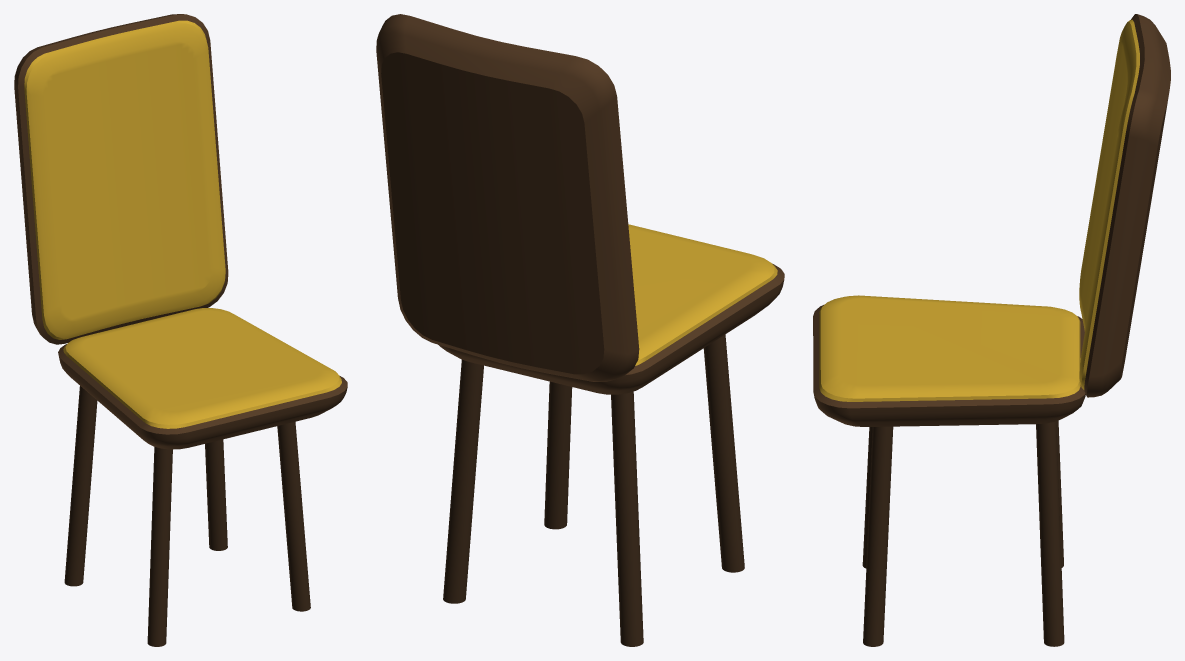
Rendered from DinnerChair_70s_v1.fbx.
3 renders of one model, left to right at view 1: azimuth 30°, elevation 25°; view 2: azimuth 150°, elevation 25°; view 3: azimuth 270°, elevation 25°, orthographic. The views are drawn at different scales.
Parts seen in each view (by area): view 1: M_Chair_70s_1; view 2: M_Chair_70s_1; view 3: M_Chair_70s_1.
Boxes of the visible parts, x1=… form: M_Chair_70s_1: x1=14, y1=14, x2=347, y2=646; M_Chair_70s_1: x1=376, y1=14, x2=784, y2=646; M_Chair_70s_1: x1=813, y1=14, x2=1170, y2=646.
Size of the model in its own units: 4.23 by 10.02 by 5.89.
